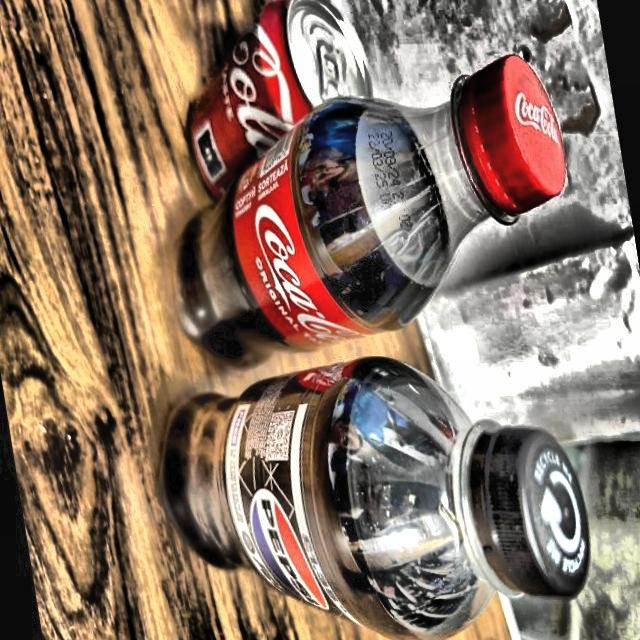coke-bottle: (167, 66, 569, 361)
coke-can: (193, 3, 349, 187)
pepsi-bottle: (150, 364, 584, 638)
